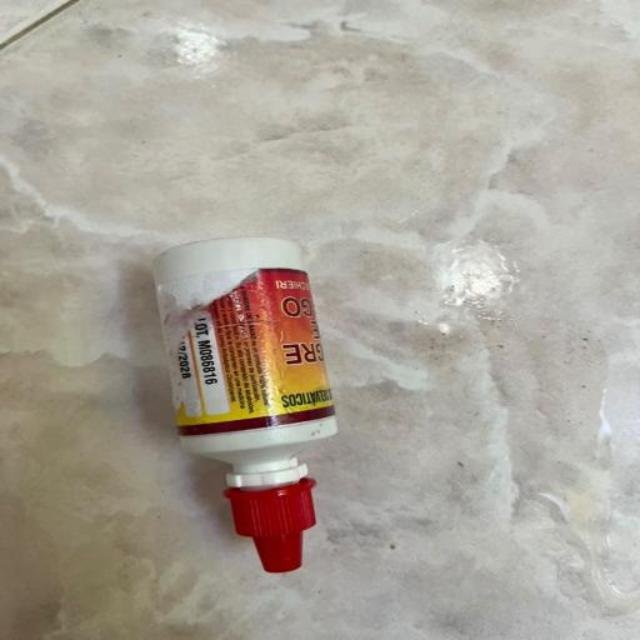HDPE: (89, 185, 482, 600)
